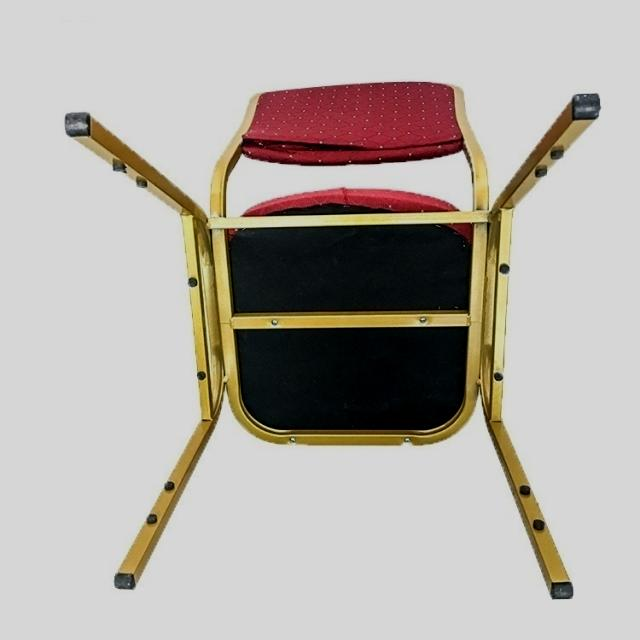Chair: (57, 78, 609, 609)
